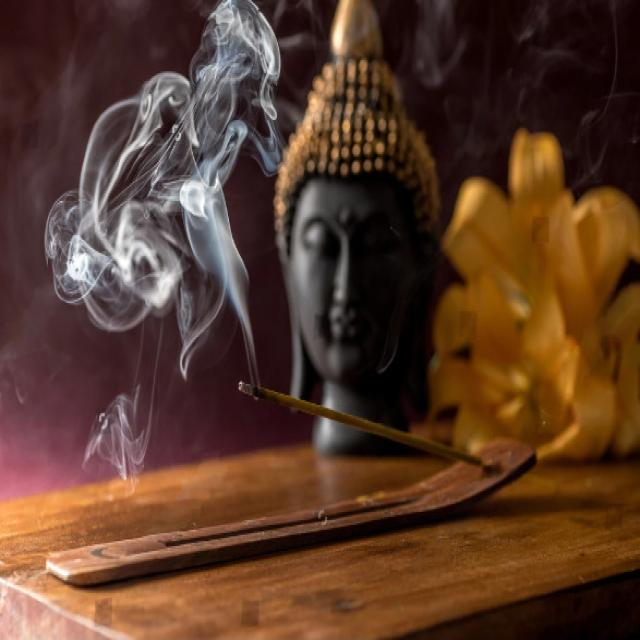Agarbatti: (232, 370, 493, 473)
